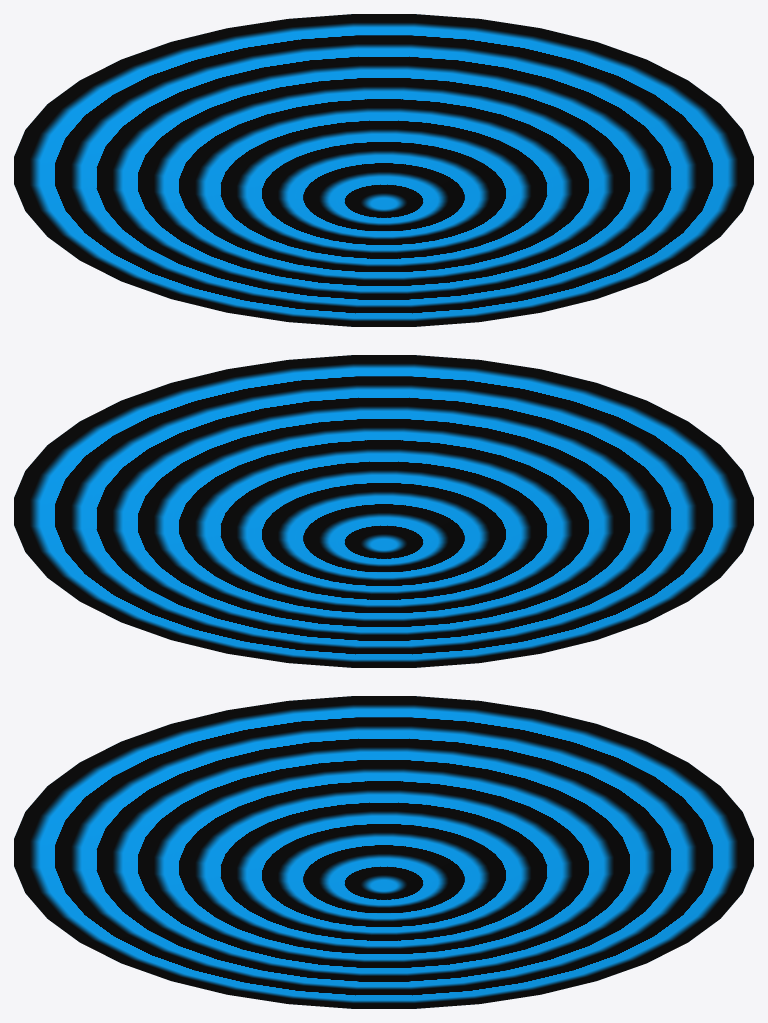
Rendered from Support.FBX.
3 views of the same model, one above another, from view 1: azimuth 30°, elevation 25°; view 2: azimuth 150°, elevation 25°; view 3: azimuth 270°, elevation 25° (orthographic).
Visible parts, largest first — view 1: Support; view 2: Support; view 3: Support.
Boxes of the visible parts, x1,y1,x2,y2 form: Support: [14, 14, 753, 326]; Support: [14, 355, 753, 667]; Support: [14, 696, 753, 1008].
Size of the model in its own units: 43.91 by 2.25 by 43.91.
1 material, 1 textured.
